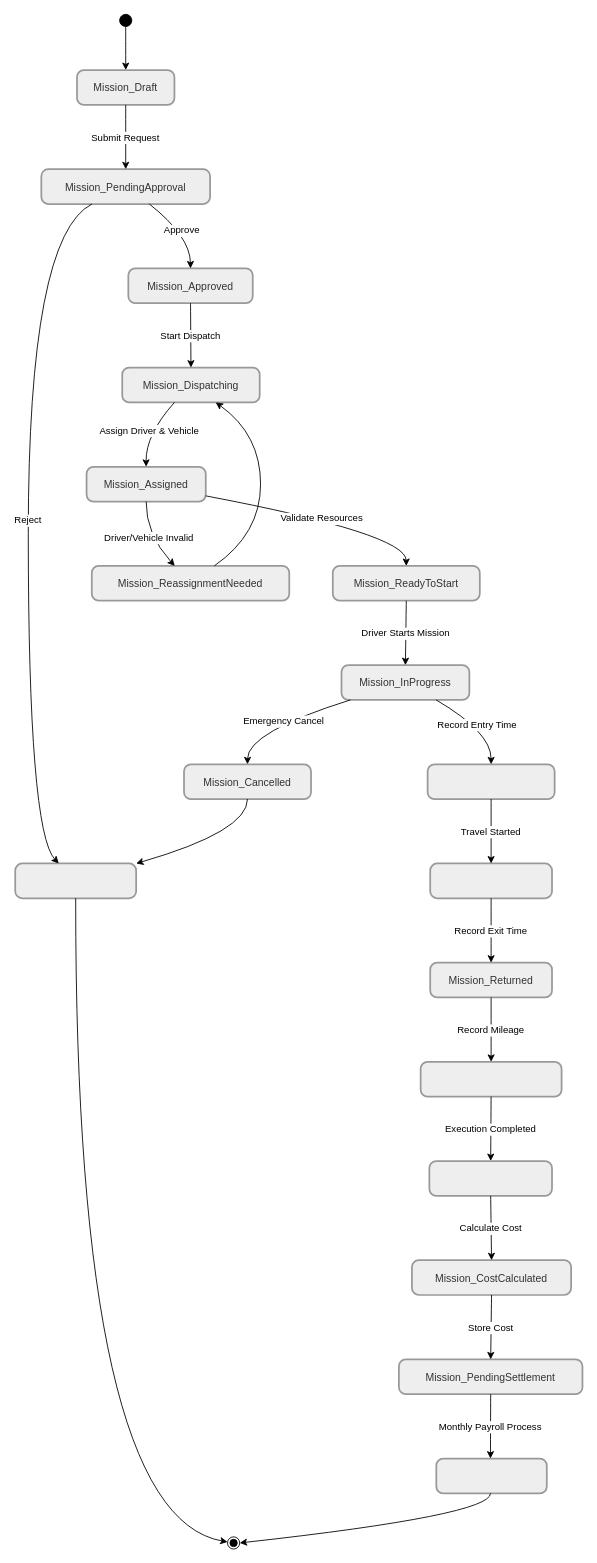
Some shapes in this 597 by 1563 pixel diagram are drawn without their labels. Each missing label, with the centre of its shape:
Mission_Executed: the point at 490,1178
Mission_KMRecorded: the point at 490,1079
Mission_Recording: the point at 490,781
Mission_Rejected: the point at 75,880
Mission_Settled: the point at 491,1475
Mission_Traveling: the point at 490,880
